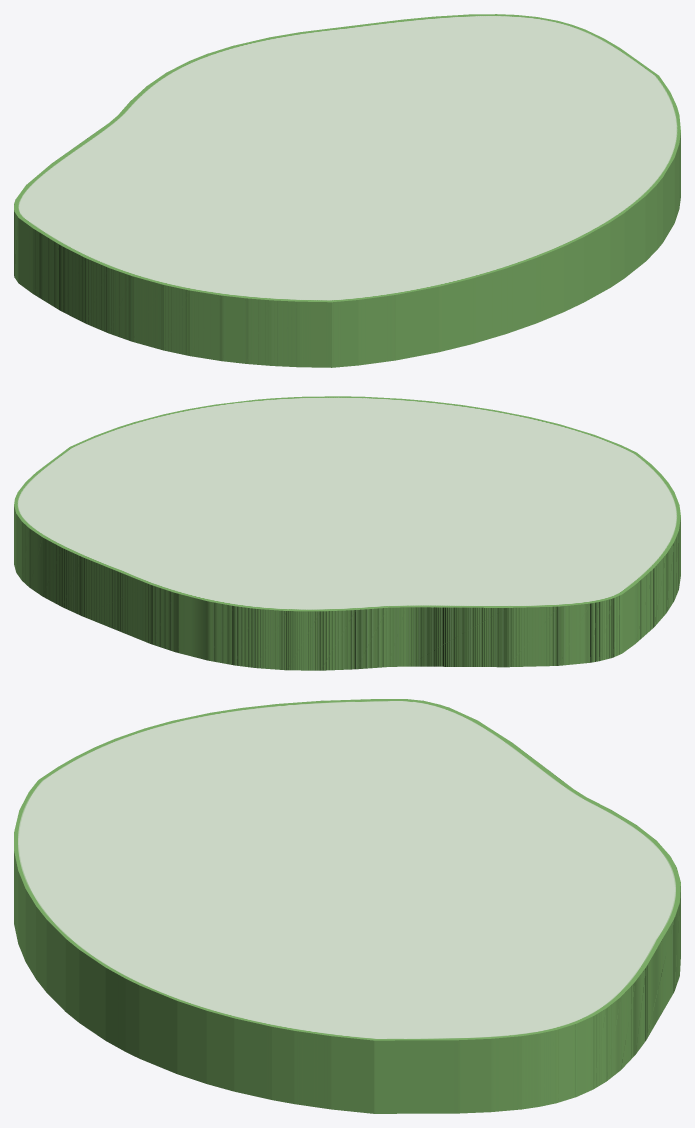
File: vacuole.gltf
The picture shows the model from 3 angles, top to bottom: view 1: azimuth 30°, elevation 25°; view 2: azimuth 150°, elevation 25°; view 3: azimuth 270°, elevation 25°; orthographic projection. The views are drawn at different scales.
Size of the model in its own units: 0.1948 by 0.0195 by 0.1608.
Materials: 1 (1 with a texture image).
